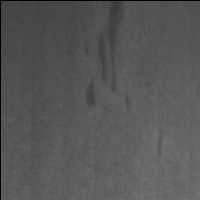inclusion: (83, 1, 133, 111), (80, 75, 101, 116), (152, 124, 167, 161)
